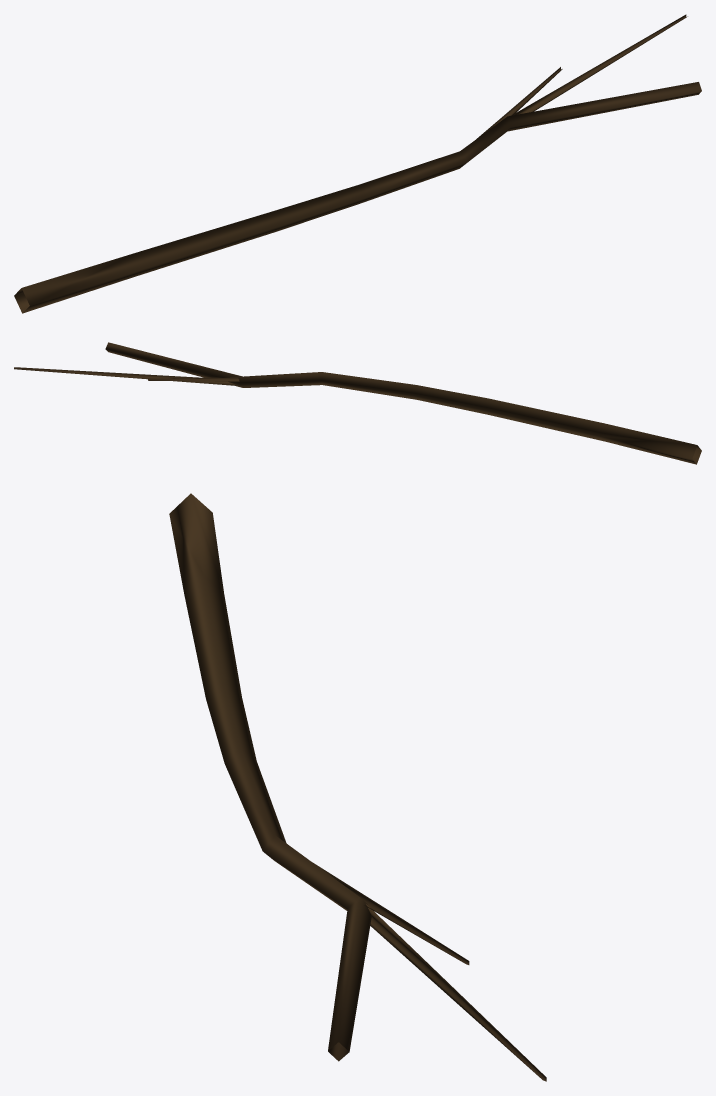
The model's file is GroundCover_Branch_02.glb.
3 views of the same model, one above another, from view 1: azimuth 30°, elevation 25°; view 2: azimuth 150°, elevation 25°; view 3: azimuth 270°, elevation 25° (orthographic). The views are drawn at different scales.
Visible parts, largest first — view 1: GroundCover_Branch_02; view 2: GroundCover_Branch_02; view 3: GroundCover_Branch_02.
Part boxes in pixels (box(x1,y1,x2,y2)): GroundCover_Branch_02: box(14, 14, 701, 313); GroundCover_Branch_02: box(14, 342, 701, 464); GroundCover_Branch_02: box(169, 493, 546, 1081).
Bounding box in the file's own units: 0.5051 × 0.019 × 0.1386.
